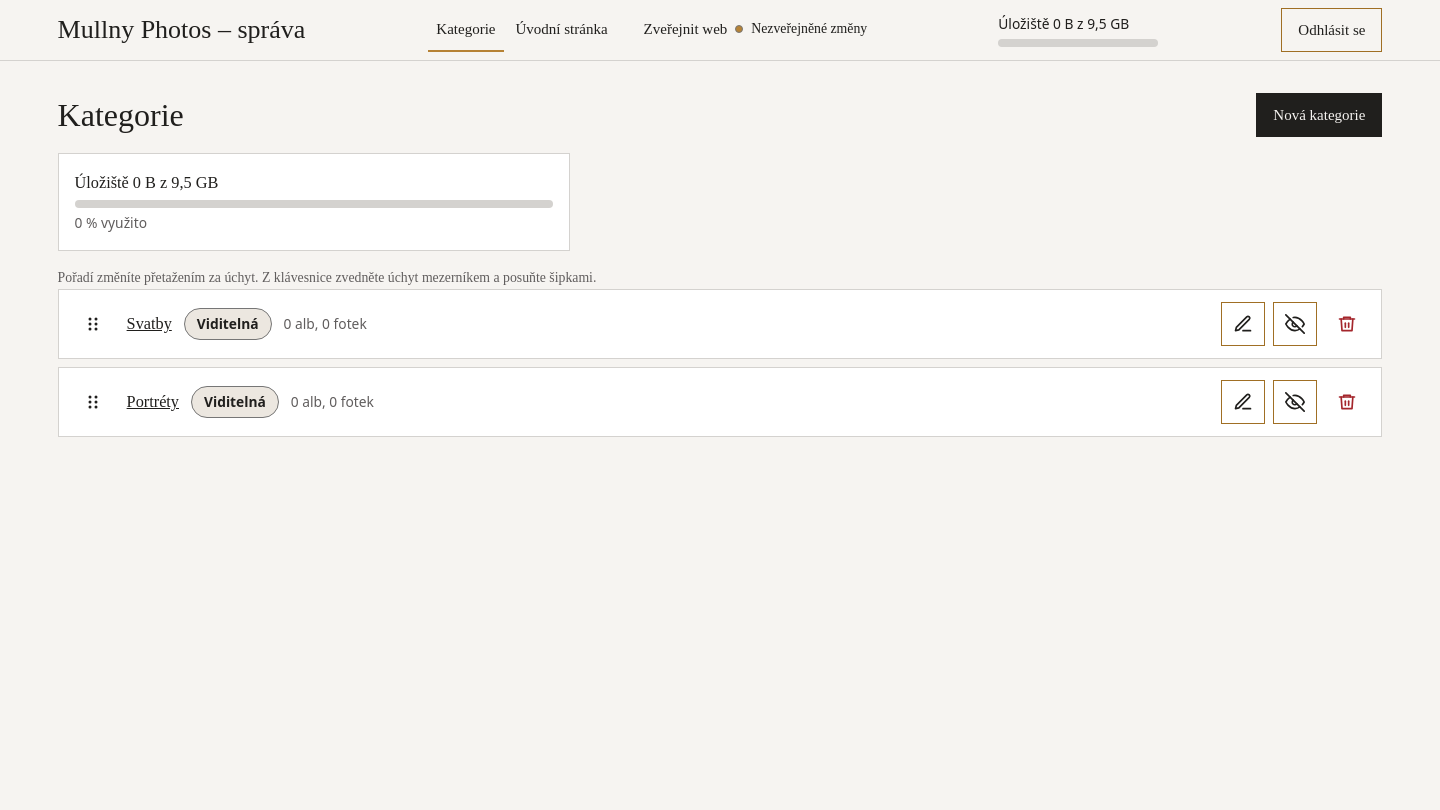
create and edit › creates a category: address follows the name, it lands last, focus returns to the button
Expected: the heading "Kategorie" is shown, [58,96,184,134]
Expected: the link "Svatby" is shown, [127,314,172,333]
Click the button "Nová kategorie": coordinates (1319, 115) [1256,93,1382,137]
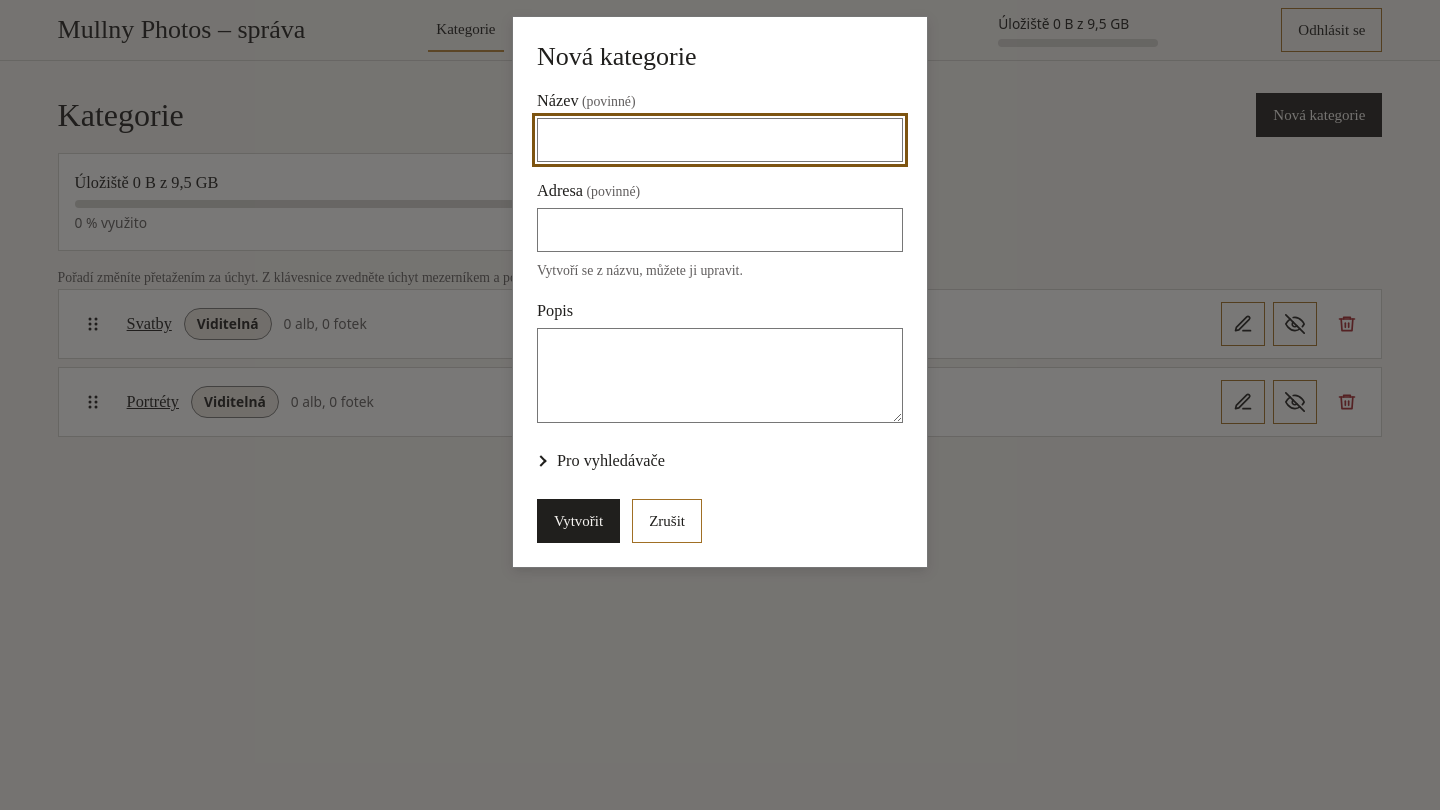
In the field labelled "Název (povinné)": coordinates (720, 140) [537,118,903,162], type "Žluté pole"
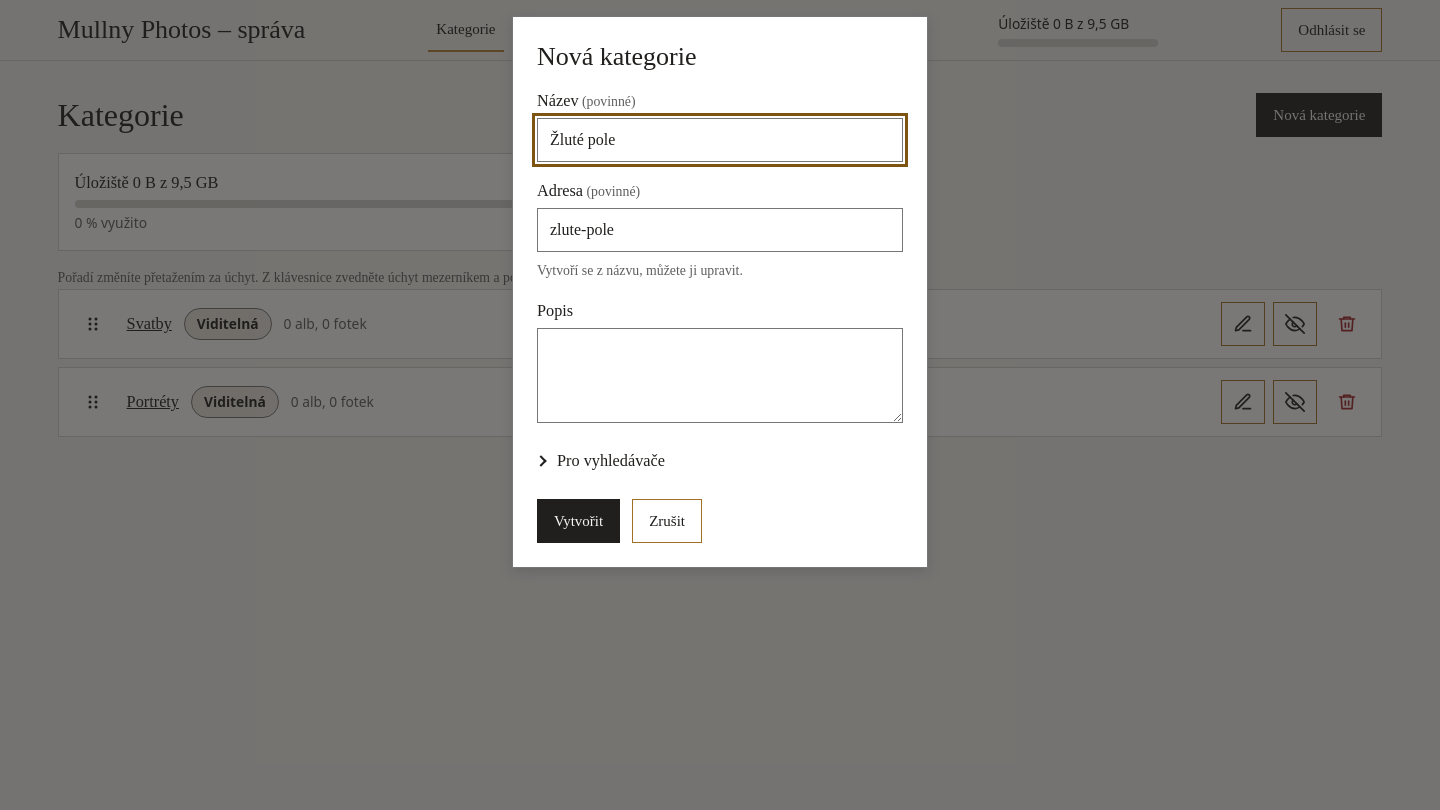
Now the field labelled "Adresa (povinné)" holds "zlute-pole", box [537,208,903,252]
Click the button "Vytvořit": coordinates (579, 521) [537,499,620,543]
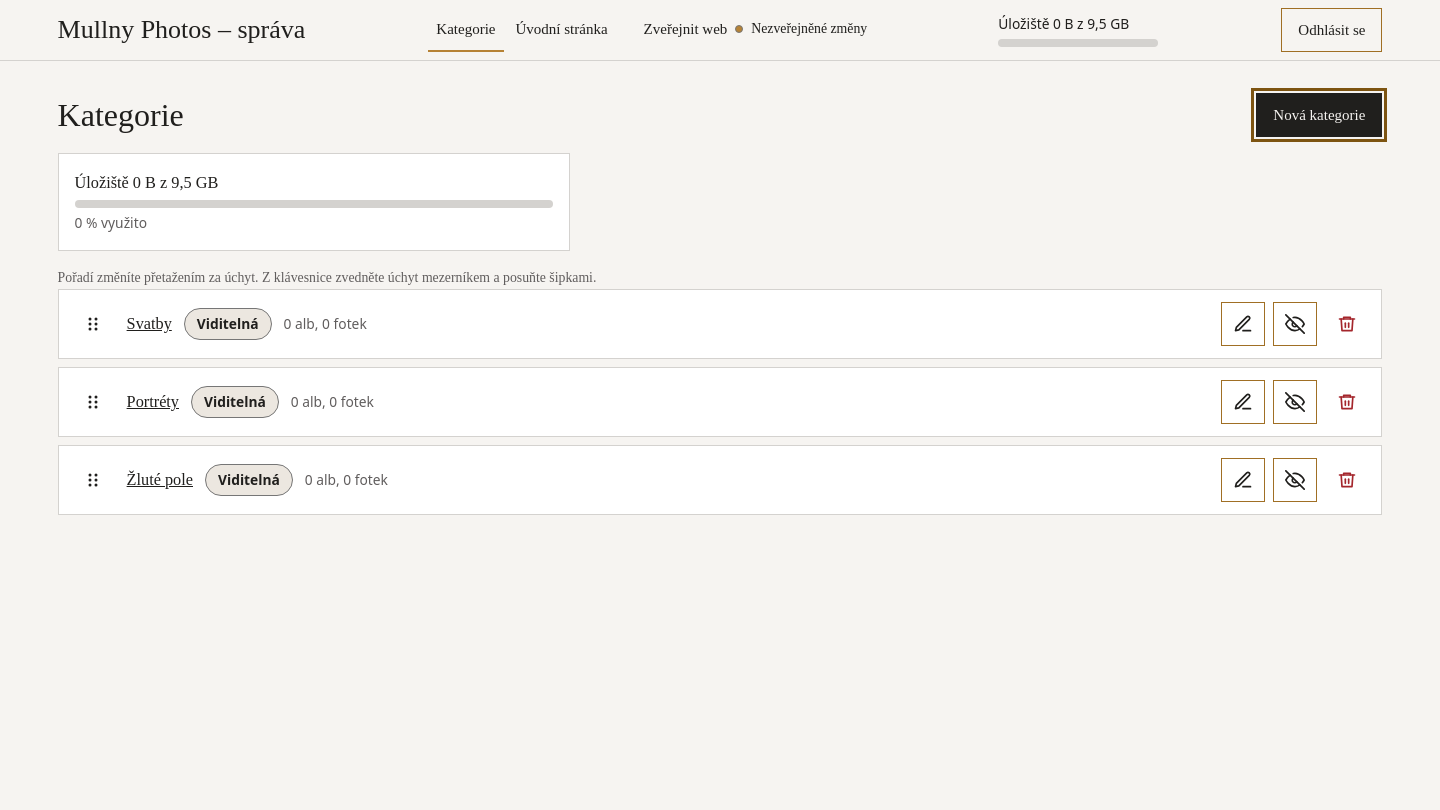
Now the dialog is gone
